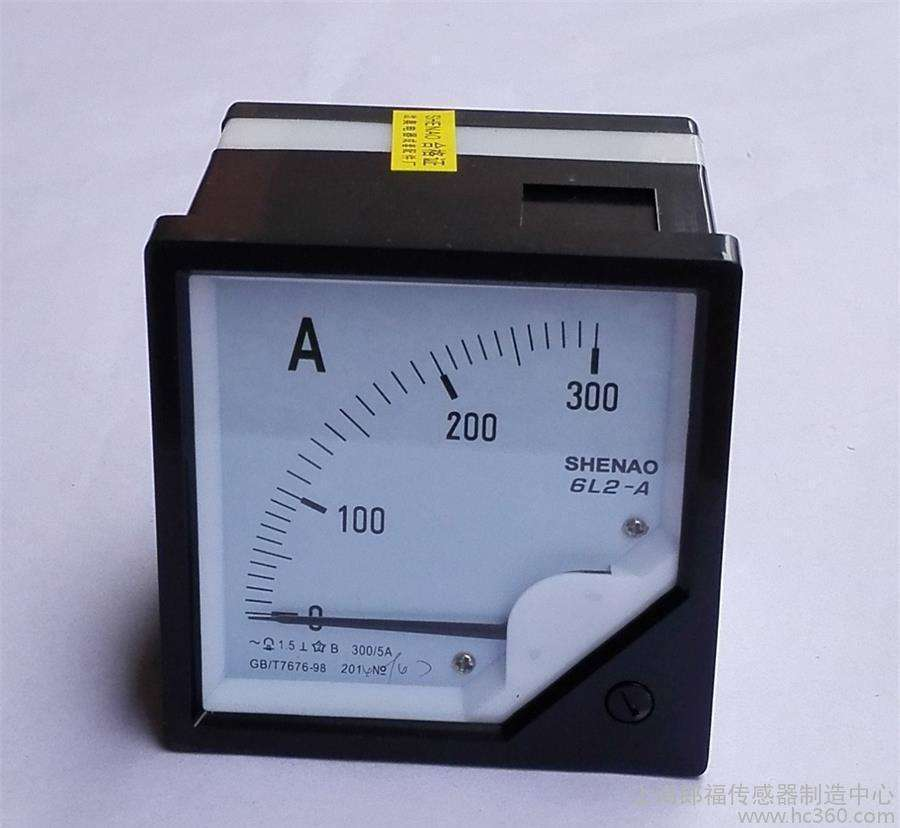pointer: (185, 273, 698, 714)
